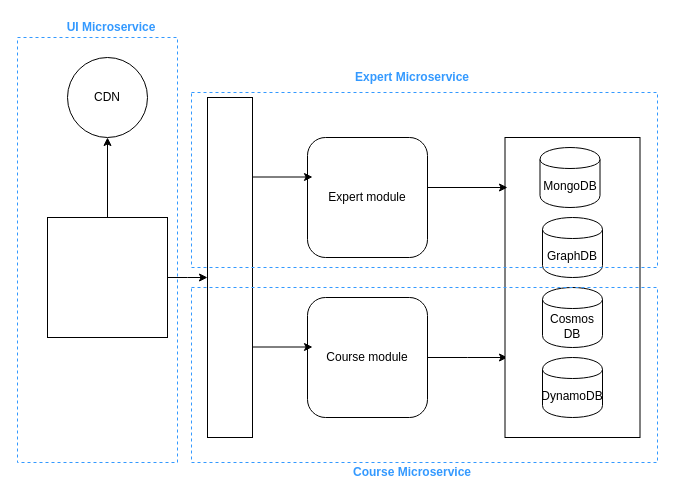
Image size: 675x499. Some labels were removed from this diagram. The shapes that lost their labels are listed below. From the top down, each one's box as (x1, y1, x2, y2) in pixels, then its label:
(16, 36, 178, 462): UI module
(206, 96, 252, 438): API gateway
